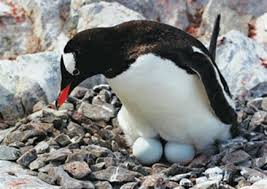egg: (164, 137, 197, 168), (132, 135, 164, 165)
penguin: (52, 18, 245, 166)
